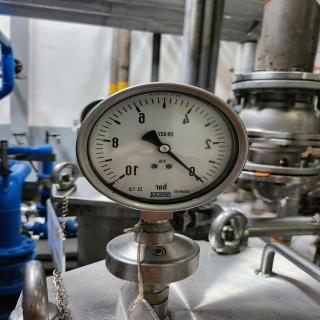gauge: (74, 82, 249, 213), (108, 165, 139, 187), (188, 164, 209, 193), (160, 145, 170, 152), (201, 180, 205, 184)
